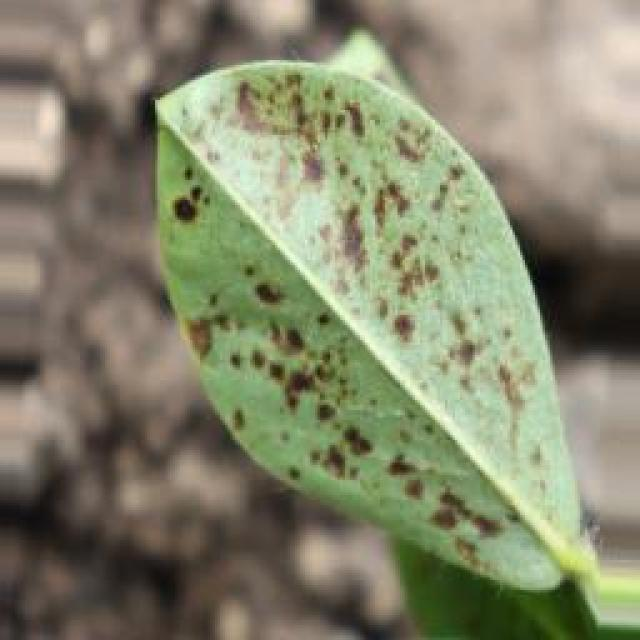Whitefly: (138, 41, 576, 608)
